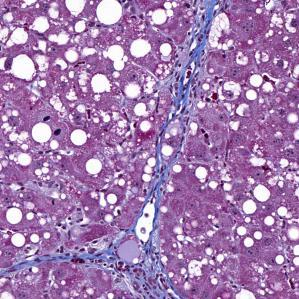fibrosis: (166, 7, 217, 104), (128, 190, 172, 299)
